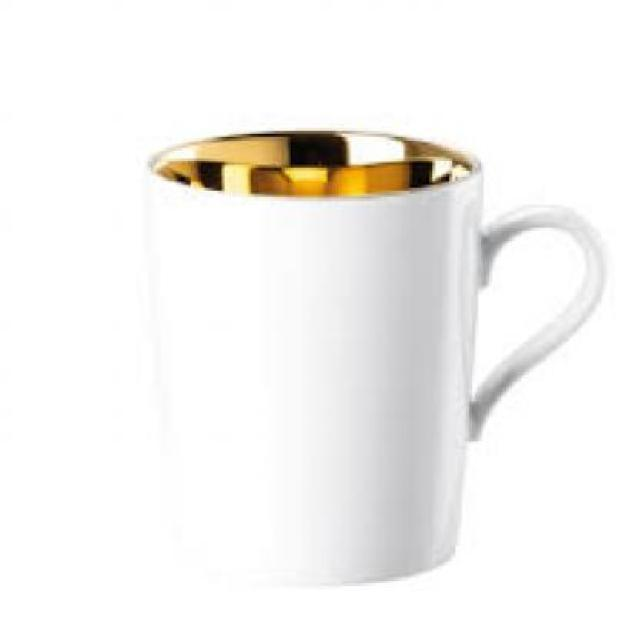cup: (140, 123, 604, 595)
